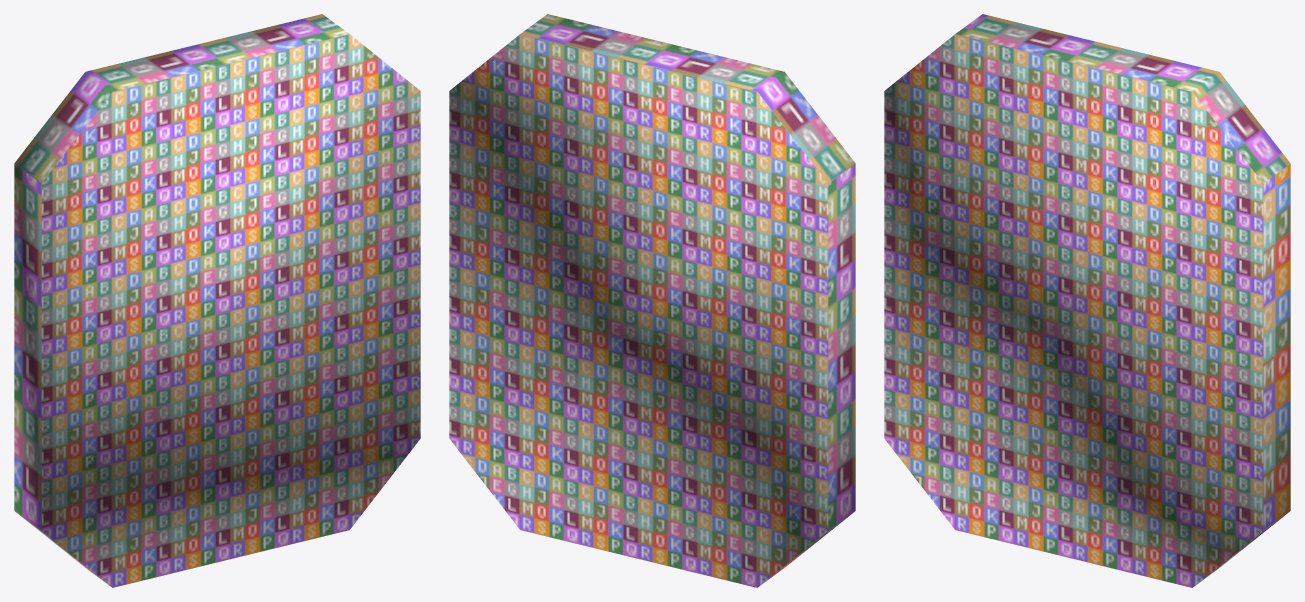
Rendered from magnetic_card.obj.
3 renders of one model, left to right at view 1: azimuth 30°, elevation 25°; view 2: azimuth 150°, elevation 25°; view 3: azimuth 330°, elevation 25°, orthographic.
Visible parts, largest first — view 1: cube1; view 2: cube1; view 3: cube1.
Part boxes in pixels (<box>): cube1: <box>14,14,420,587</box>; cube1: <box>449,14,855,587</box>; cube1: <box>884,14,1290,587</box>.
Size of the model in its own units: 0.8 by 1 by 0.1.
Materials: 1 (1 with a texture image).
